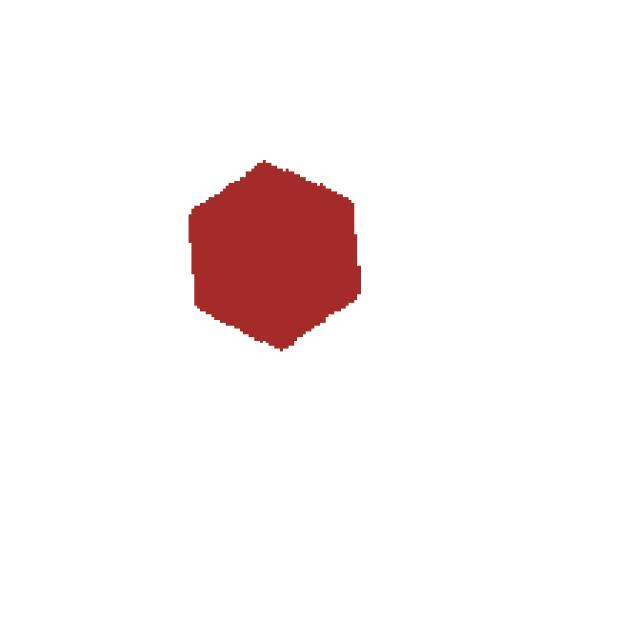Heptagon: (150, 107, 417, 382)
